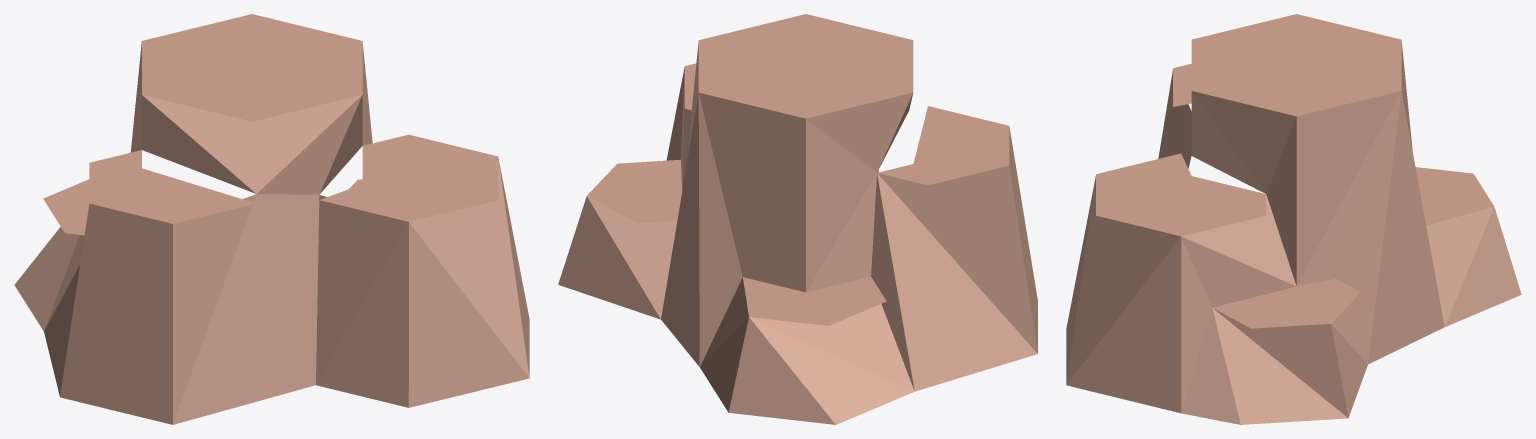
The model's file is rock_largeA.lod.glb.
The picture shows the model from 3 angles, left to right: view 1: azimuth 30°, elevation 25°; view 2: azimuth 150°, elevation 25°; view 3: azimuth 270°, elevation 25°; orthographic projection. The views are drawn at different scales.
Visible parts, largest first — view 1: rock_largeA; view 2: rock_largeA; view 3: rock_largeA.
Boxes of the visible parts, <box> form: rock_largeA: <box>14,14,529,424</box>; rock_largeA: <box>558,14,1037,424</box>; rock_largeA: <box>1066,14,1521,424</box>.
Size of the model in its own units: 0.9193 by 0.5 by 0.8339.
